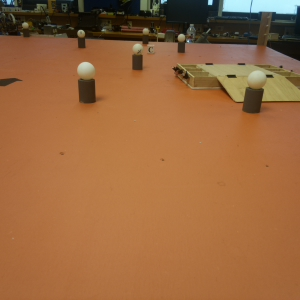blockC: (146, 44, 155, 54)
corner: (260, 10, 270, 49)
obstacle: (244, 74, 264, 114), (76, 63, 96, 102), (132, 44, 143, 70), (176, 34, 187, 53), (76, 29, 86, 49), (142, 27, 150, 45), (22, 21, 29, 37)
side: (169, 64, 213, 88)
slope: (218, 73, 300, 103)
start: (1, 74, 24, 90)
